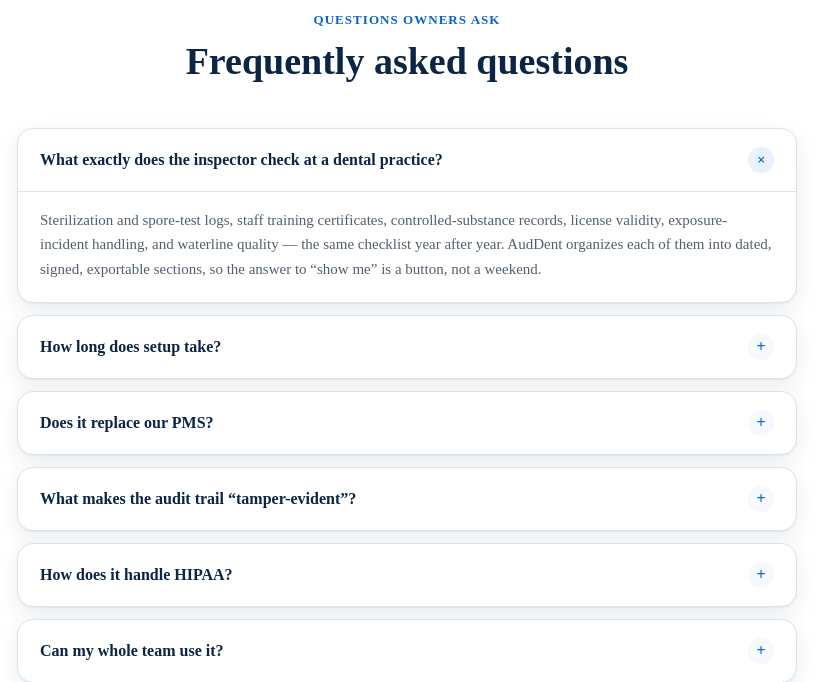
Test: FAQ › opens only one answer at a time
The width and height of the screenshot is (815, 682).
Click the button "How long does setup take? +".
click(131, 346)  # box [18,316,796,378]
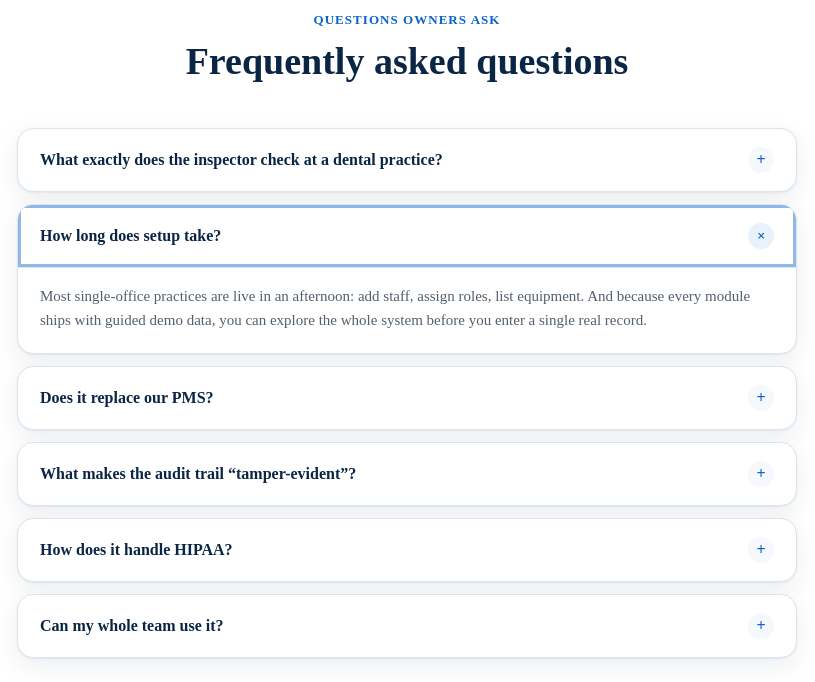
Check: the button "What exactly does the inspector check at a dental practice?" is collapsed, box [18,129,796,191]
Check: the button "How long does setup take? +" is expanded, box [18,205,796,267]
